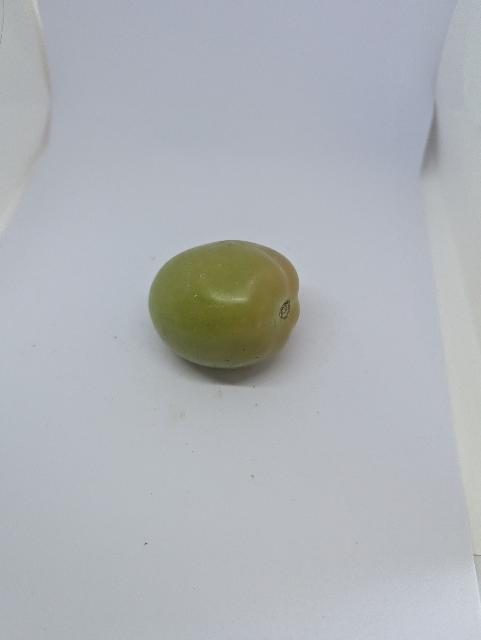green: (122, 215, 318, 392)
